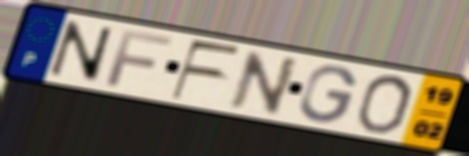F: (168, 38, 245, 102), (103, 28, 176, 89)
G: (298, 64, 360, 125)
N: (227, 49, 303, 118), (47, 18, 115, 85)
O: (352, 74, 416, 135)
